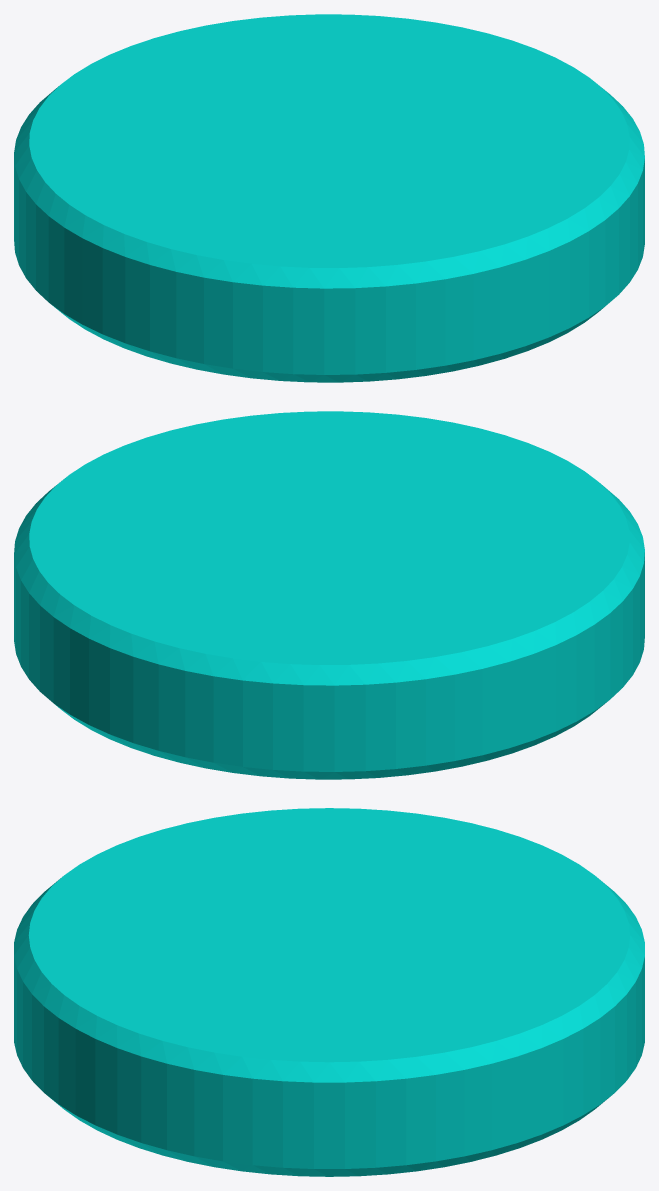
The model's file is platter.glb.
3 renders of one model, top to bottom at view 1: azimuth 30°, elevation 25°; view 2: azimuth 150°, elevation 25°; view 3: azimuth 270°, elevation 25°, orthographic.
Parts seen in each view (by area): view 1: Cylinder; view 2: Cylinder; view 3: Cylinder.
Part boxes in pixels (box(x1,y1,x2,y2)): Cylinder: box(14, 14, 644, 382); Cylinder: box(14, 411, 644, 779); Cylinder: box(14, 808, 644, 1176).
Size of the model in its own units: 2 by 0.4 by 2.
